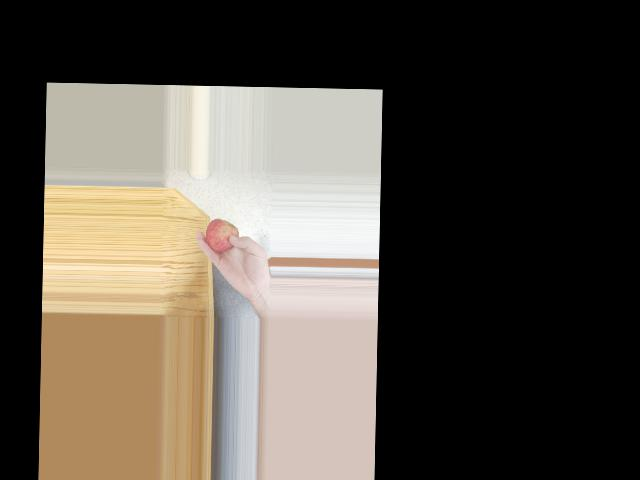apple: (204, 216, 241, 259)
